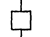Cable Termination Box: (10, 9, 34, 33)
